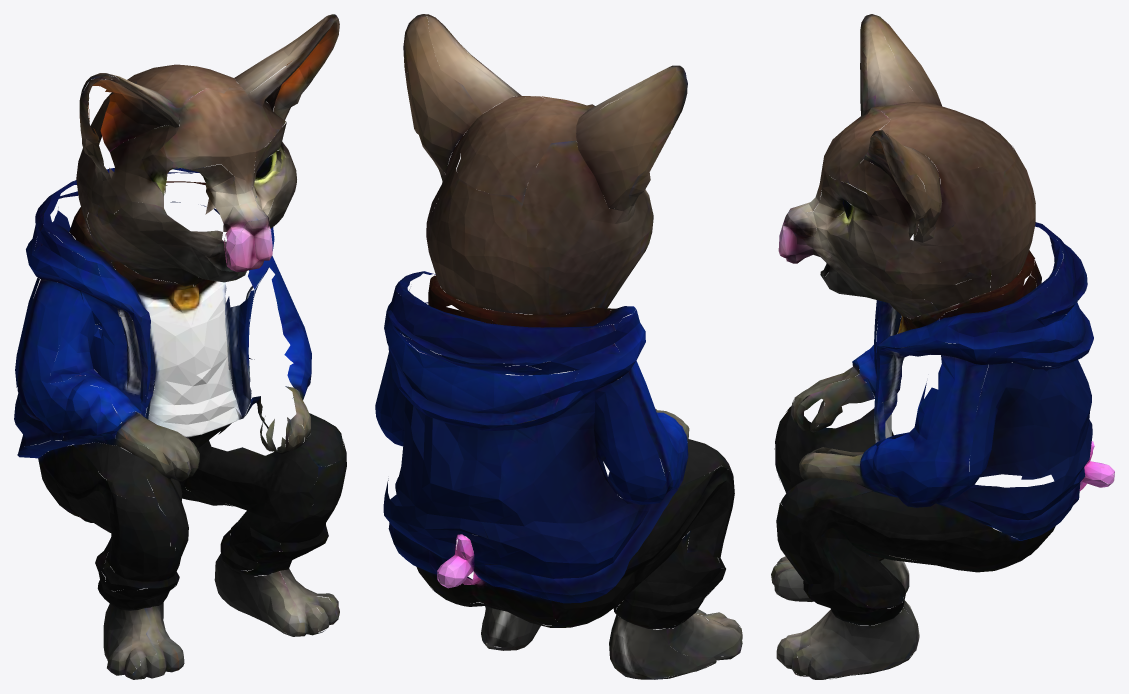
File: char_pureum.glb
The picture shows the model from 3 angles, left to right: view 1: azimuth 30°, elevation 25°; view 2: azimuth 150°, elevation 25°; view 3: azimuth 270°, elevation 25°; orthographic projection. The views are drawn at different scales.
Visible parts, largest first — view 1: char_pureum_model; view 2: char_pureum_model; view 3: char_pureum_model.
Boxes of the visible parts, x1,y1,x2,y2 form: char_pureum_model: (14,14,346,679); char_pureum_model: (375,14,742,679); char_pureum_model: (771,14,1114,679).
Size of the model in its own units: 0.6549 by 1.27 by 0.693.
1 material, 1 textured.
